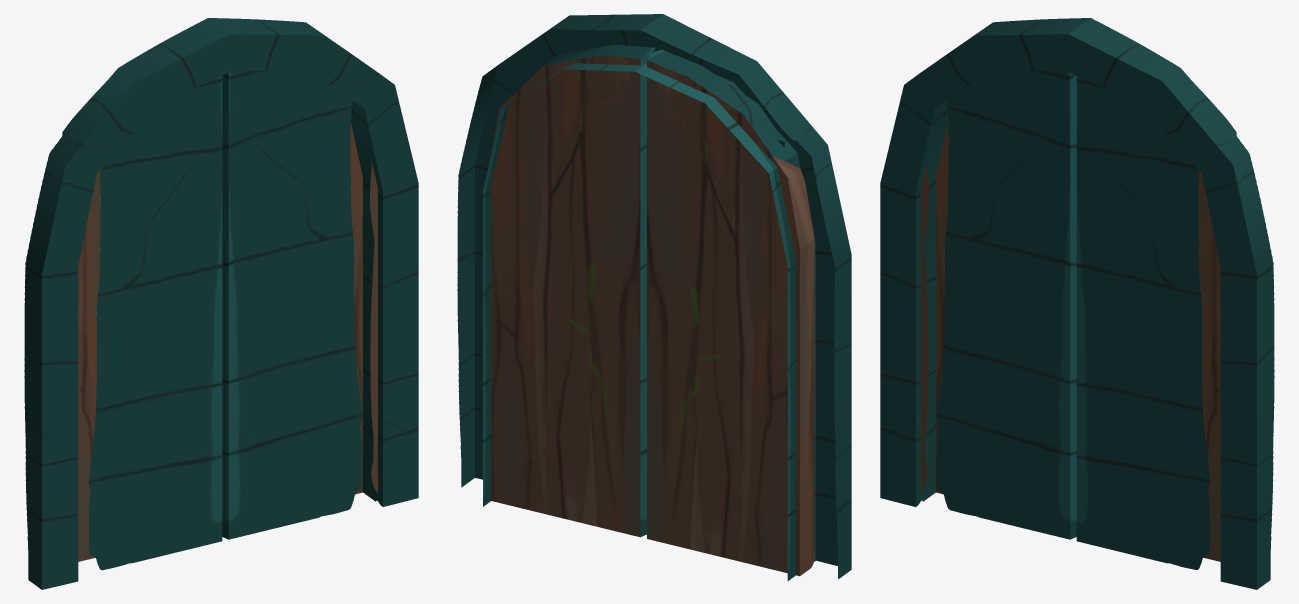
File: bossdoor_MESH_v2.fbx
The picture shows the model from 3 angles, left to right: view 1: azimuth 30°, elevation 25°; view 2: azimuth 150°, elevation 25°; view 3: azimuth 330°, elevation 25°; orthographic projection.
Parts seen in each view (by area): view 1: leftdoor, rightDoor, doorFrame; view 2: rightDoor, leftdoor, doorFrame; view 3: rightDoor, leftdoor, doorFrame.
Boxes of the visible parts, box(x1,y1,x2,y2) form: leftdoor: box(222, 69, 377, 539); rightDoor: box(78, 76, 222, 570); doorFrame: box(24, 18, 418, 589); rightDoor: box(647, 49, 814, 576); leftdoor: box(489, 44, 655, 537); doorFrame: box(457, 14, 851, 580); rightDoor: box(921, 69, 1076, 539); leftdoor: box(1076, 76, 1220, 569); doorFrame: box(880, 18, 1274, 589).
Size of the model in its own units: 24.72 by 31.97 by 3.24.
